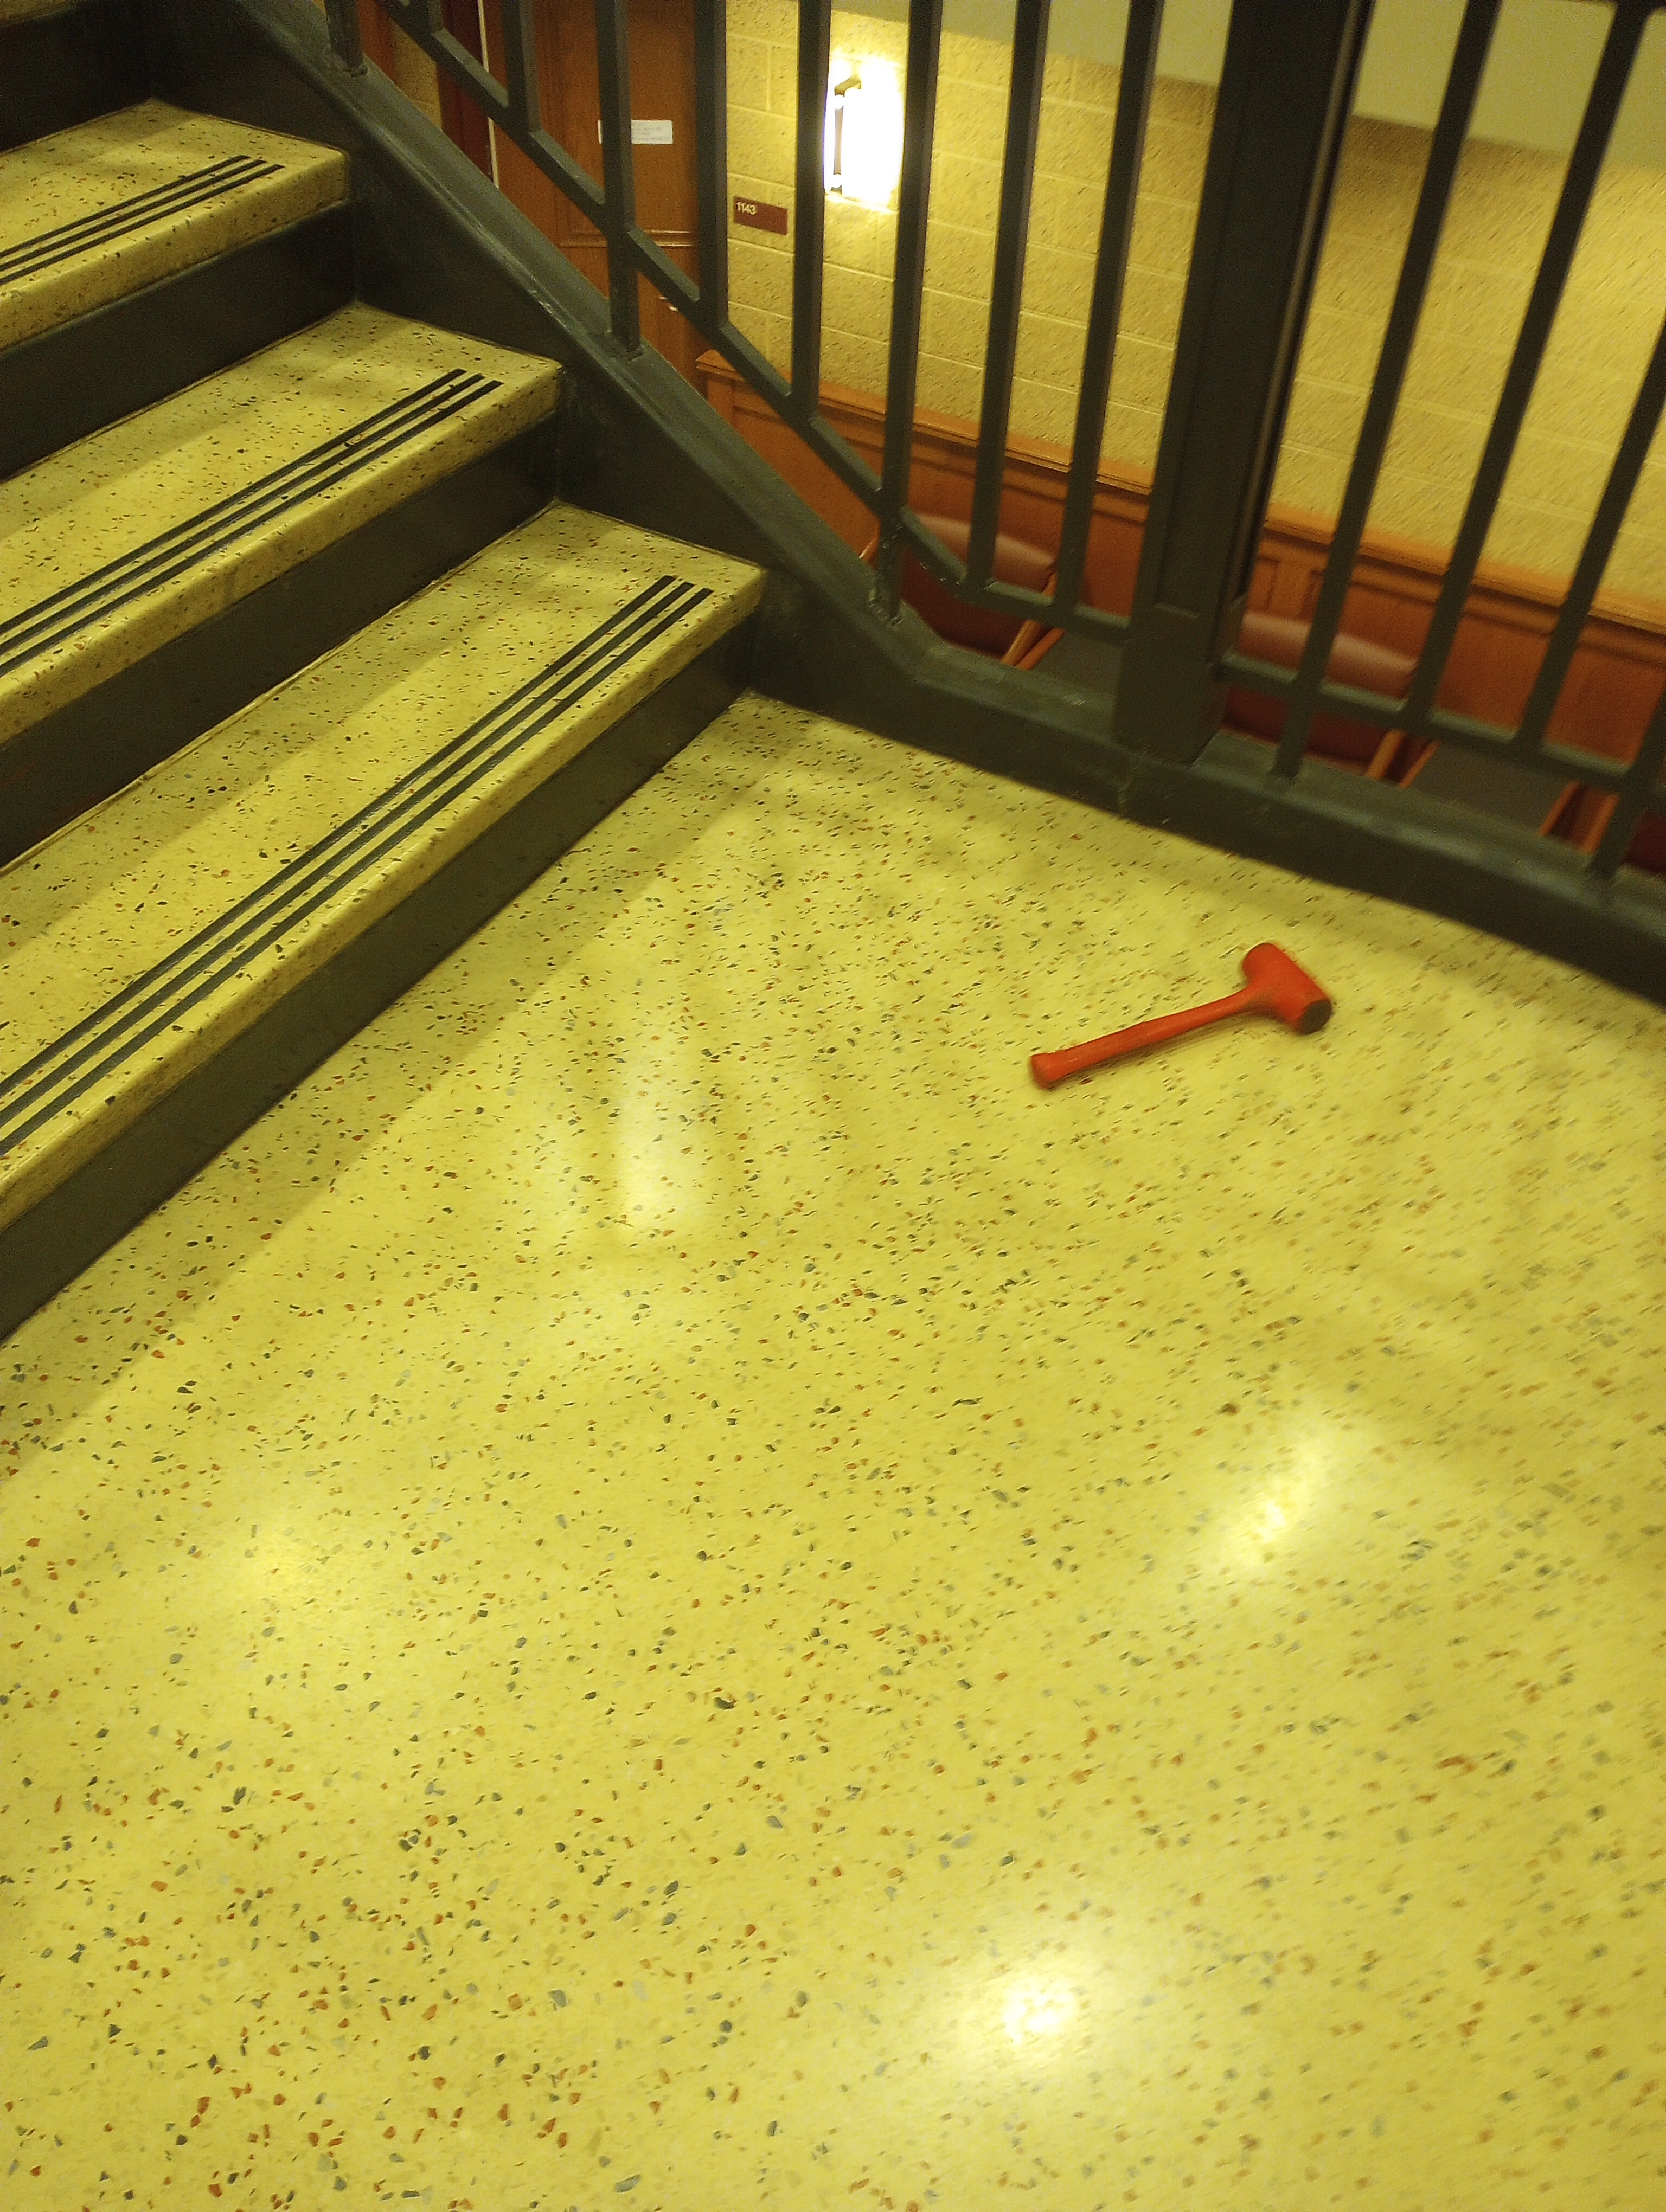bottle: (1026, 930, 1337, 1100)
